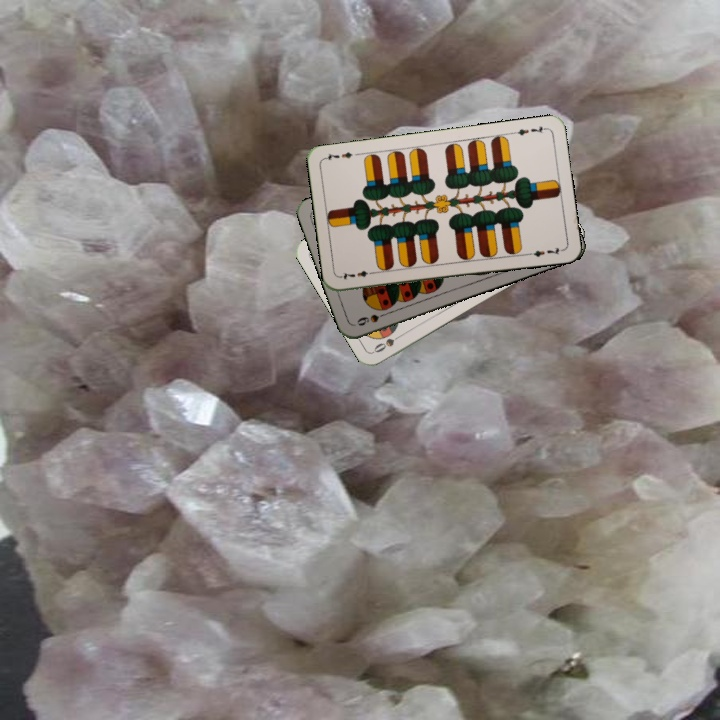E7: (337, 266, 378, 282), (508, 122, 549, 138)
S9: (353, 308, 392, 329)
SO: (370, 329, 407, 355)
